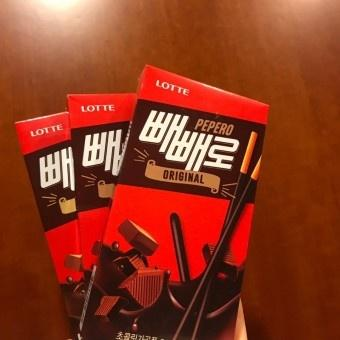snack: (79, 63, 271, 340)
